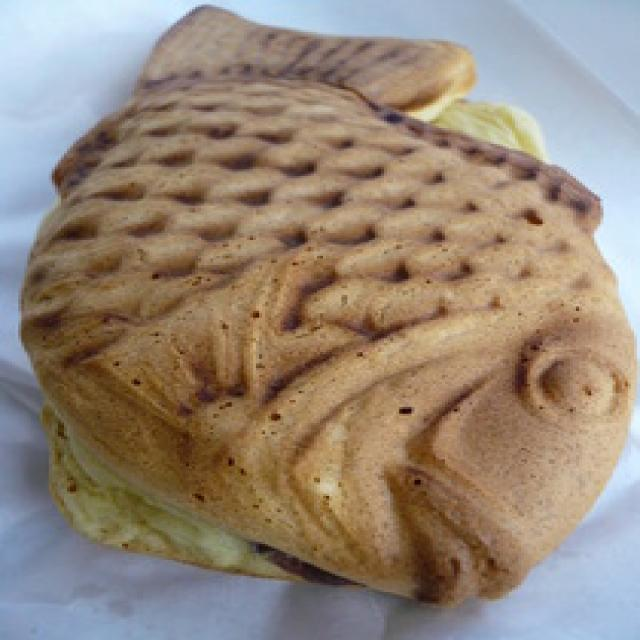熟制海鲜: (3, 0, 640, 613)
